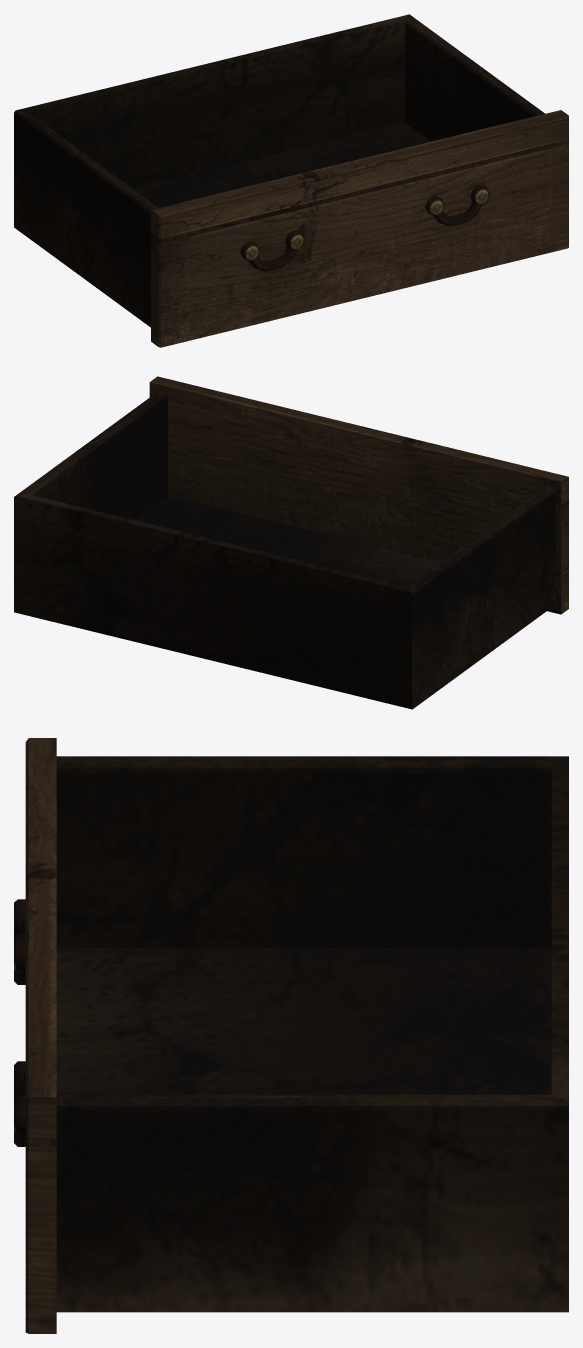
Rendered from cabinetDrawer03_b.FBX.
3 views of the same model, one above another, from view 1: azimuth 30°, elevation 25°; view 2: azimuth 150°, elevation 25°; view 3: azimuth 270°, elevation 25° (orthographic). The views are drawn at different scales.
Visible parts, largest first — view 1: SM_CabinetDrawer03; view 2: SM_CabinetDrawer03; view 3: SM_CabinetDrawer03.
Boxes of the visible parts, x1,y1,x2,y2 form: SM_CabinetDrawer03: (14, 14, 568, 347); SM_CabinetDrawer03: (14, 376, 568, 709); SM_CabinetDrawer03: (14, 738, 568, 1333).
Size of the model in its own units: 66.57 by 20.43 by 43.46.
Materials: 1 (1 with a texture image).
